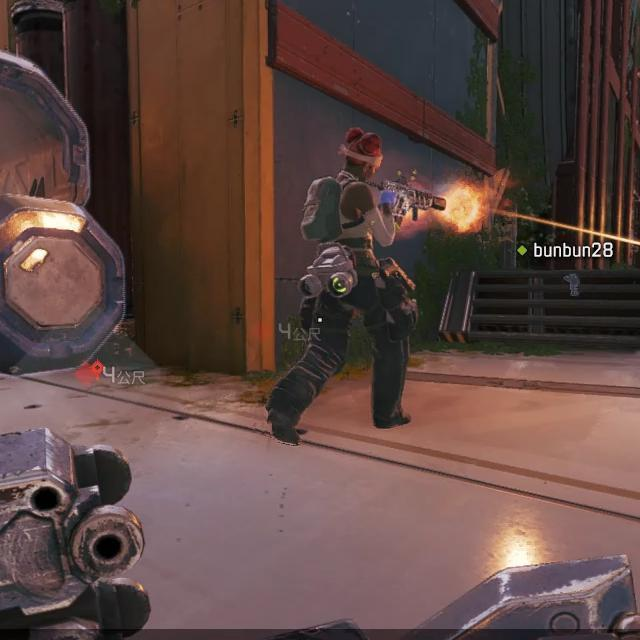avatar: (265, 128, 421, 444)
object: (438, 180, 489, 232)
